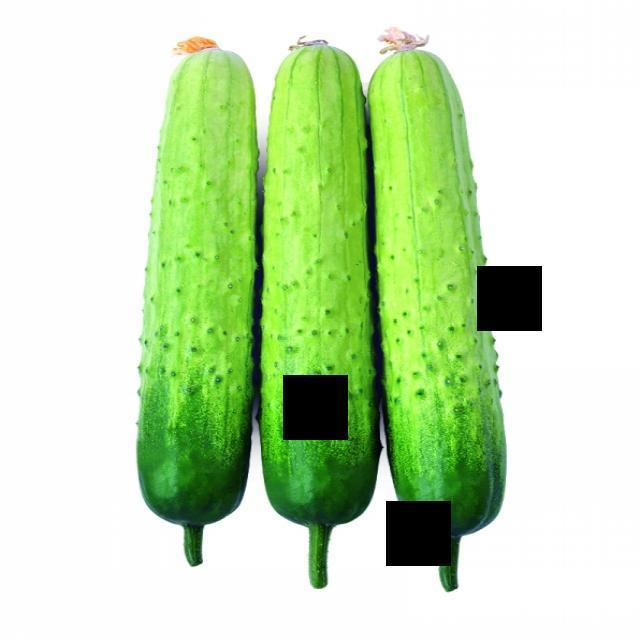cucumber: (82, 21, 534, 610), (388, 16, 542, 596), (108, 13, 258, 569)
